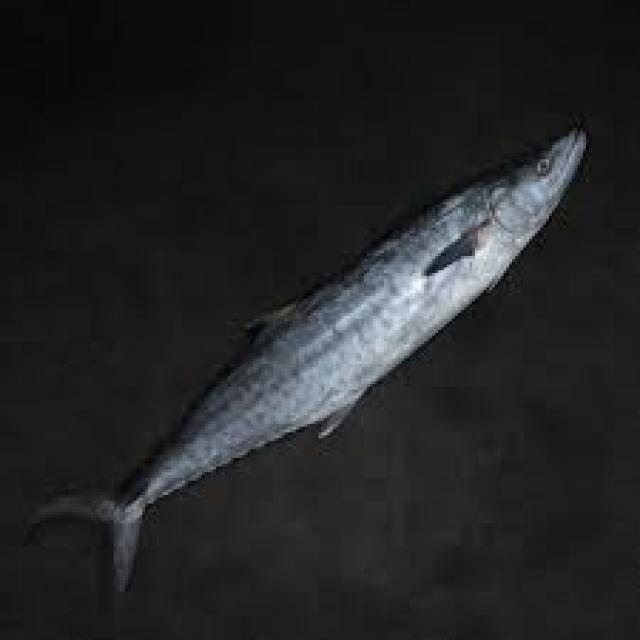King Mackerel: (26, 125, 588, 595)
